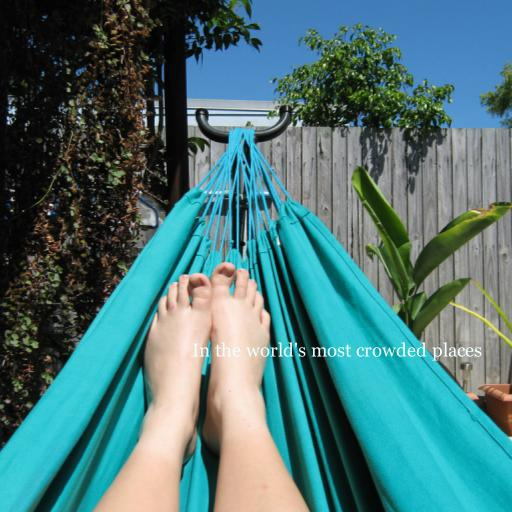Georgia: (192, 342, 482, 361)
